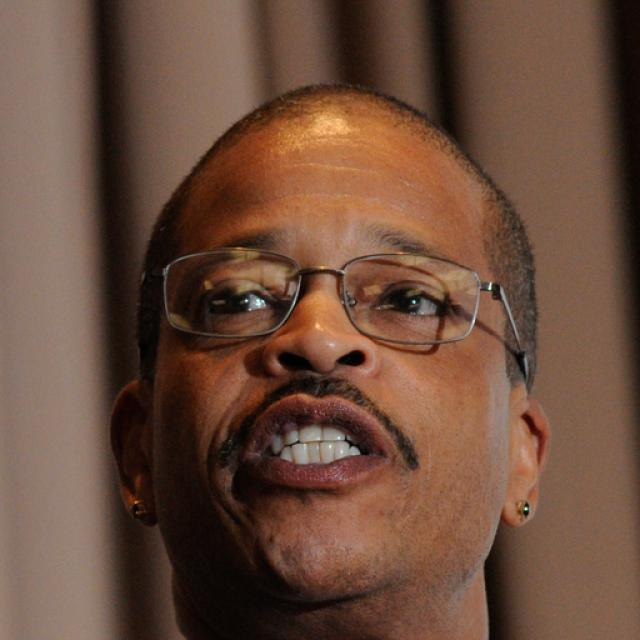surprise: (161, 130, 504, 606)
